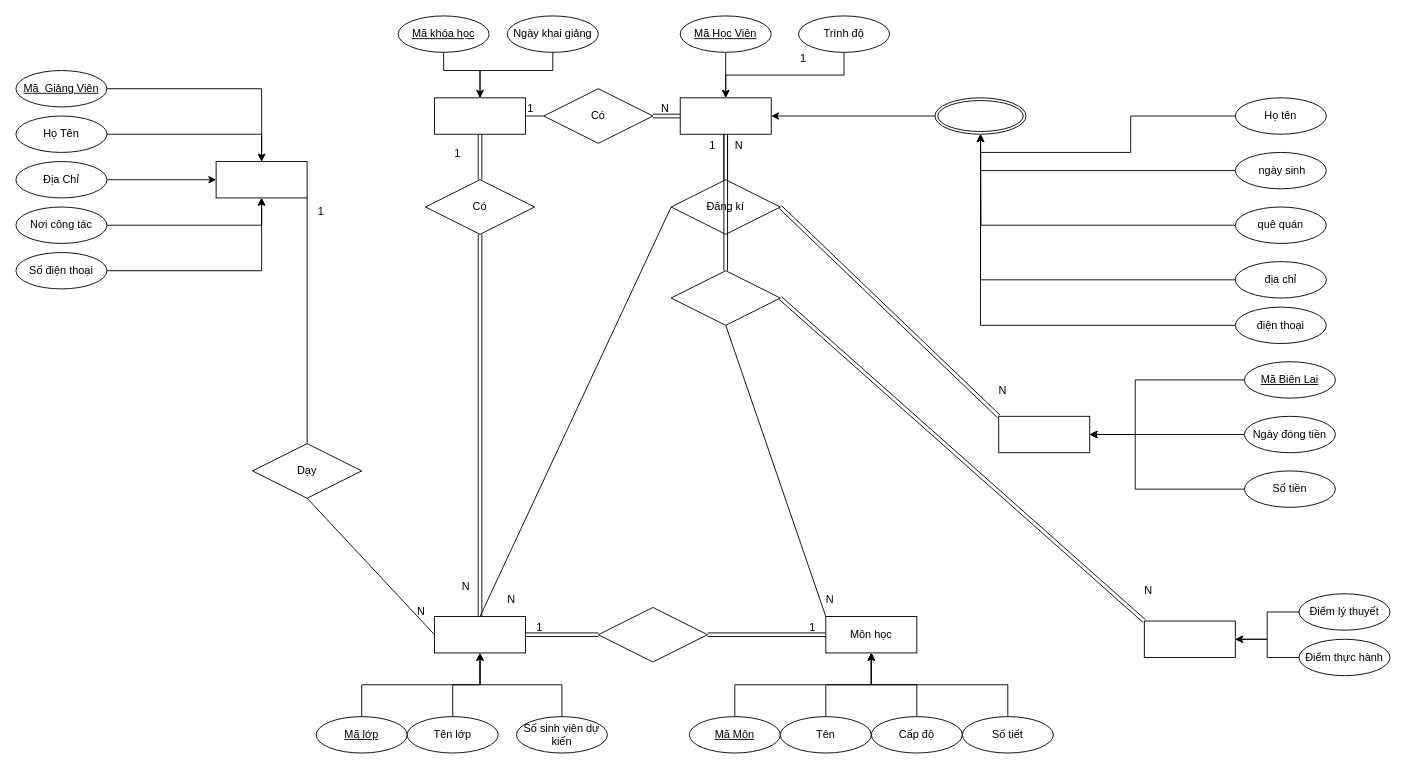
This 1406x769 diagram has some shape labels left out. Each missing label, with the centre of its shape:
"Biên lai" belongs at (1044,434).
"Giáo viên" belongs at (261,179).
"Học Viên" belongs at (725,115).
"Khóa học" belongs at (480,115).
"Kết quả" belongs at (725,297).
"Lớp học" belongs at (480,634).
"Relationship" belongs at (652,634).
"Thông tin cơ bản" belongs at (980,115).
"Điểm" belongs at (1189,638).
